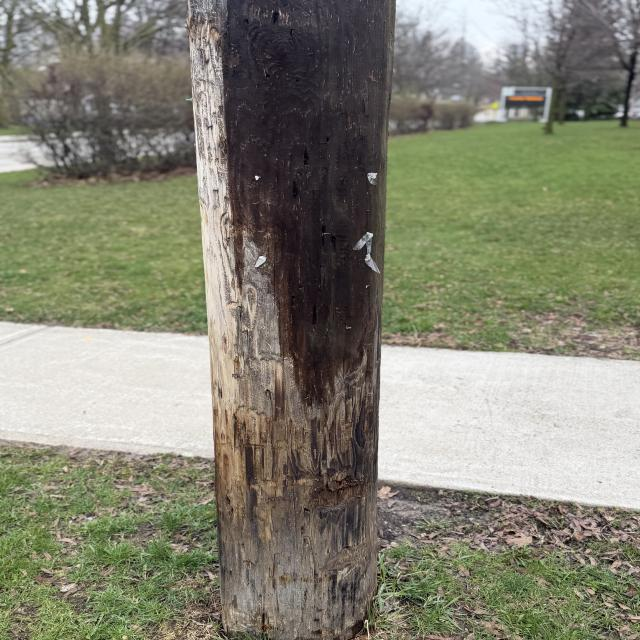Electrical Pole: (180, 0, 404, 640)
